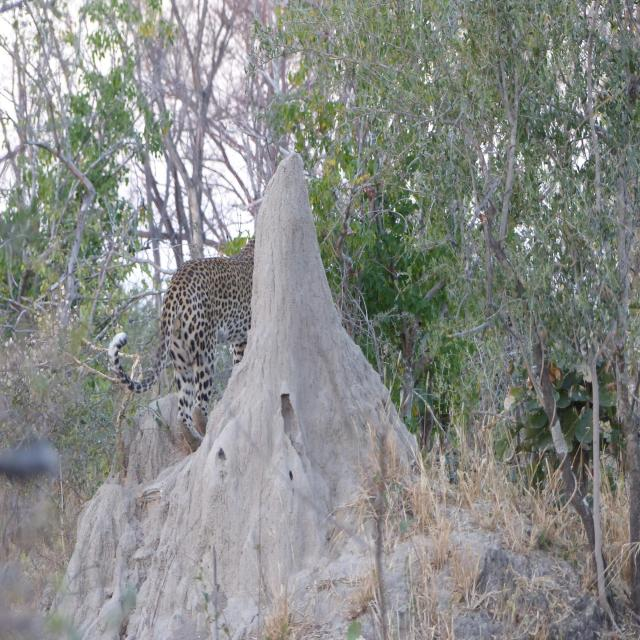Leopard: (110, 213, 261, 454)
